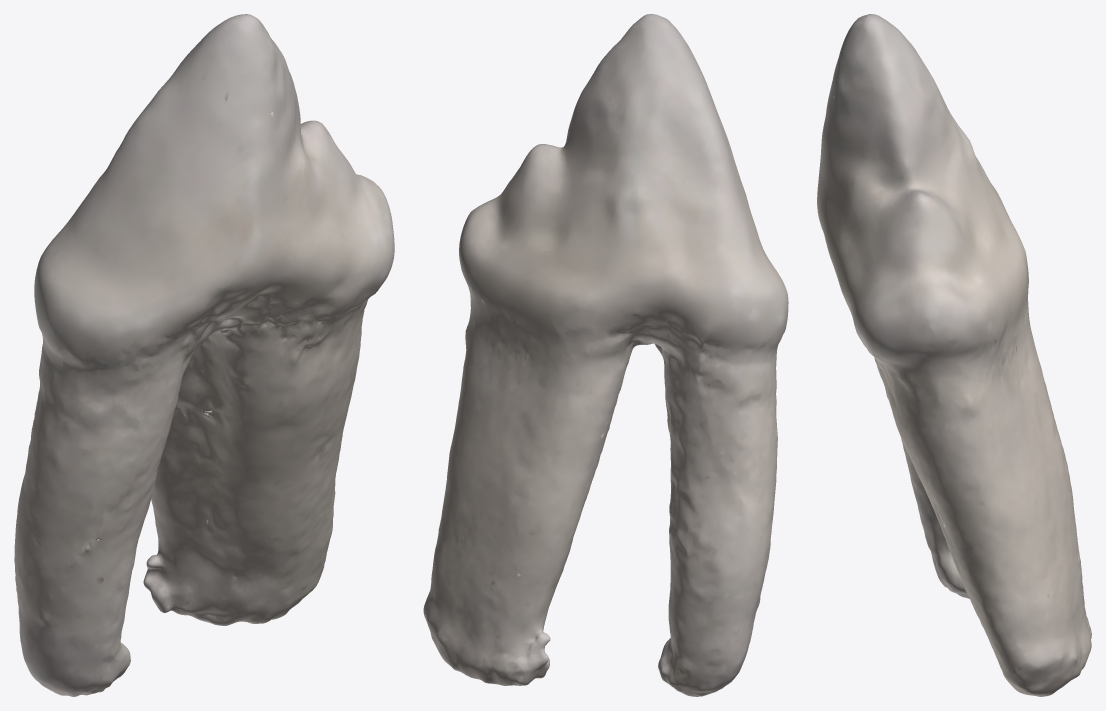
3 renders of one model, left to right at view 1: azimuth 30°, elevation 25°; view 2: azimuth 150°, elevation 25°; view 3: azimuth 270°, elevation 25°, orthographic. The views are drawn at different scales.
Parts seen in each view (by area): view 1: P3_li_oben_Katze.001; view 2: P3_li_oben_Katze.001; view 3: P3_li_oben_Katze.001.
Boxes of the visible parts, bbox=[...] form: P3_li_oben_Katze.001: bbox=[14, 14, 394, 696]; P3_li_oben_Katze.001: bbox=[423, 14, 788, 696]; P3_li_oben_Katze.001: bbox=[817, 14, 1091, 696].
Bounding box in the file's own units: 591 × 1134 × 450.
Materials: 1 (1 with a texture image).
